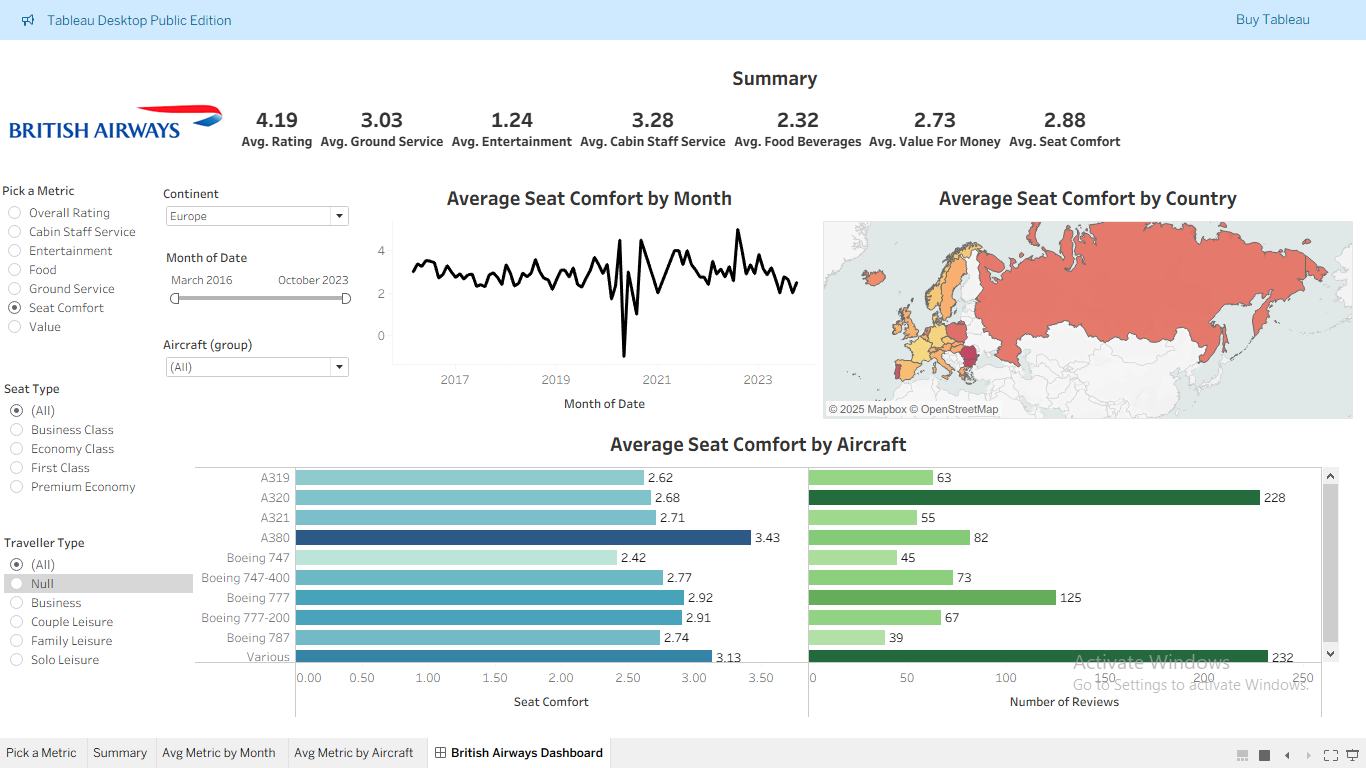

The page's visual inventory and layout, read from the dashboard file:
{"tool":"tableau","page":{"name":"British Airways Dashboard","canvas":[1000,1000],"units":"permille","ordinal":0},"visuals":[{"type":"image","param":"Image/download.png","box":[0,29,168.8,175.7]},{"type":"worksheet","title":"Summary","mark":"Automatic","box":[171.4,29,792.2,175.7]},{"type":"worksheet","title":"Avg Metric by Month","mark":"Automatic","rows":["Calculation_284008296757338112"],"cols":["date"],"box":[264.9,201.1,333.3,342.4]},{"type":"worksheet","title":"Pick a Metric","mark":"Automatic","box":[602.6,201.1,387.9,342.4]},{"type":"parameter","param":"[Parameters].[Parameter 1]","box":[1.7,202.9,138.5,284.4]},{"type":"filter","title":"Pick a Metric","param":"[federated.1d62r380bufzm811wtw3s1rwa89s].[none:Continent:nk]","box":[119.5,208.3,138.5,79.7]},{"type":"filter","title":"Pick a Metric","param":"[federated.1d62r380bufzm811wtw3s1rwa89s].[tmn:date:qk]","box":[121.2,298.9,138.5,110.5]},{"type":"filter","title":"Pick a Metric","param":"[federated.1d62r380bufzm811wtw3s1rwa89s].[Aircraft (group)]","box":[119.5,423.9,138.5,79.7]},{"type":"filter","title":"Pick a Metric","param":"[federated.1d62r380bufzm811wtw3s1rwa89s].[none:seat_type:nk]","box":[2.6,487.3,138.5,215.6]},{"type":"worksheet","title":"Avg Metric by Aircraft","mark":"Automatic","cols":["Calculation_284008296757338112","ba_reviews.csv_BEC9B719B44549CA8F71E72B454B09D8"],"box":[142.9,552.5,837.2,431.2]},{"type":"filter","title":"Pick a Metric","param":"[federated.1d62r380bufzm811wtw3s1rwa89s].[none:traveller_type:nk]","box":[2.6,708.3,138.5,250]}]}

Visuals, with their boxes on the dashboard's canvas, which has no fixed pixel size, in thousandths of its width and height (x1, y1, x2, y2). These are canvas units, not pixel positions in the 1366x768 screenshot, which may show the page scaled, cropped or inside an application window:
image: box=[0, 29, 169, 205]
"Summary" worksheet: box=[171, 29, 964, 205]
"Avg Metric by Month" worksheet: box=[265, 201, 598, 544]
"Pick a Metric" worksheet: box=[603, 201, 990, 544]
parameter: box=[2, 203, 140, 487]
"Pick a Metric" filter: box=[120, 208, 258, 288]
"Pick a Metric" filter: box=[121, 299, 260, 409]
"Pick a Metric" filter: box=[120, 424, 258, 504]
"Pick a Metric" filter: box=[3, 487, 141, 703]
"Avg Metric by Aircraft" worksheet: box=[143, 552, 980, 984]
"Pick a Metric" filter: box=[3, 708, 141, 958]
